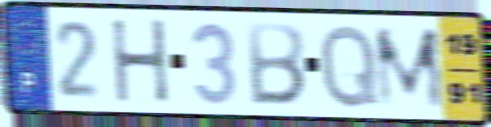2: (53, 18, 103, 101)
3: (189, 18, 239, 108)
B: (246, 20, 308, 109)
H: (108, 17, 173, 106)
M: (371, 24, 449, 111)
Q: (318, 20, 381, 112)
